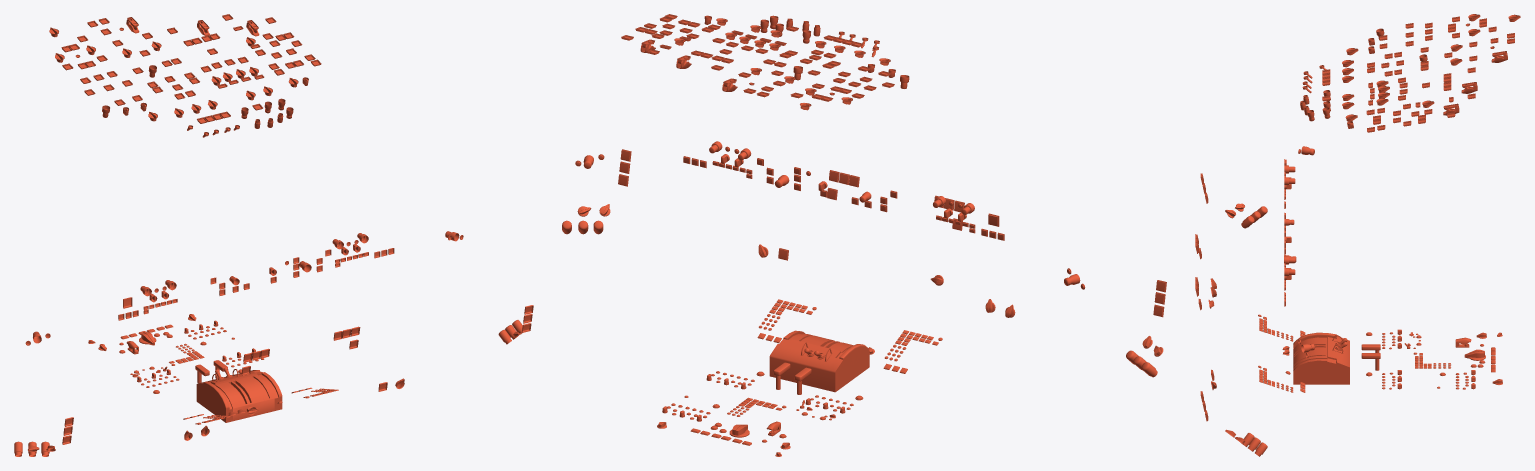
The model's file is Cockpit_Switches.fbx.
3 renders of one model, left to right at view 1: azimuth 30°, elevation 25°; view 2: azimuth 150°, elevation 25°; view 3: azimuth 270°, elevation 25°, orthographic. The views are drawn at different scales.
Visible parts, largest first — view 1: Switches_1.1909; view 2: Switches_1.1909; view 3: Switches_1.1909.
Part boxes in pixels (bbox=[...]): Switches_1.1909: bbox=[196, 370, 282, 422]; Switches_1.1909: bbox=[769, 330, 869, 392]; Switches_1.1909: bbox=[1293, 332, 1349, 384].
Bounding box in the file's own units: 169 × 103 × 96.4.
